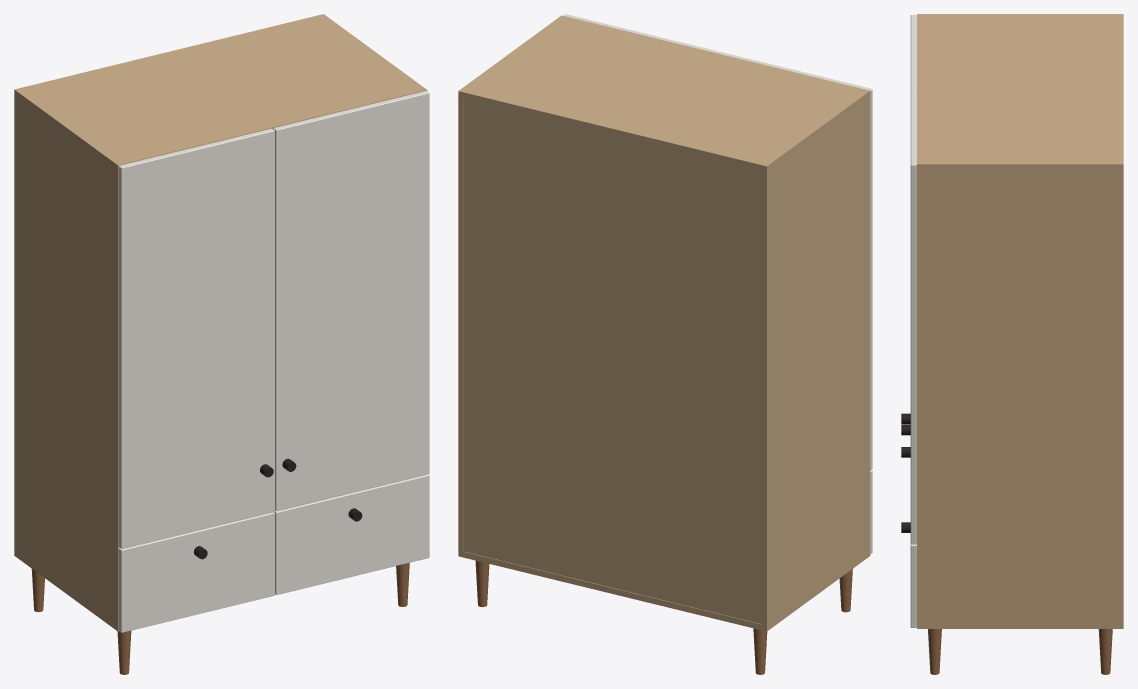
File: 16_szafa_dziecieca_100.glb
The picture shows the model from 3 angles, left to right: view 1: azimuth 30°, elevation 25°; view 2: azimuth 150°, elevation 25°; view 3: azimuth 270°, elevation 25°; orthographic projection.
Parts seen in each view (by area): view 1: Korpus, Front_drzwi_1, Front_drzwi_3, Front_szuflada_2, Front_szuflada_4, Nogi; view 2: Korpus, Front_drzwi_1, Nogi; view 3: Korpus, Front_drzwi_3, Nogi, Front_szuflada_4, Front_drzwi_1, Uchwyty.
Part boxes in pixels (box(x1,y1,x2,y2)): Korpus: box(14, 14, 427, 631); Front_drzwi_1: box(118, 128, 274, 548); Front_drzwi_3: box(273, 91, 429, 511); Front_szuflada_2: box(118, 512, 274, 632); Front_szuflada_4: box(274, 474, 429, 594); Nogi: box(31, 563, 409, 674); Korpus: box(458, 15, 870, 631); Front_drzwi_1: box(717, 51, 872, 470); Nogi: box(475, 560, 852, 674); Korpus: box(917, 14, 1123, 628); Front_drzwi_3: box(910, 90, 916, 544); Nogi: box(928, 629, 1112, 674); Front_szuflada_4: box(910, 544, 916, 627); Front_drzwi_1: box(910, 15, 916, 90); Uchwyty: box(901, 413, 910, 532).
Bounding box in the file's own units: 1 × 1.6 × 0.624.
